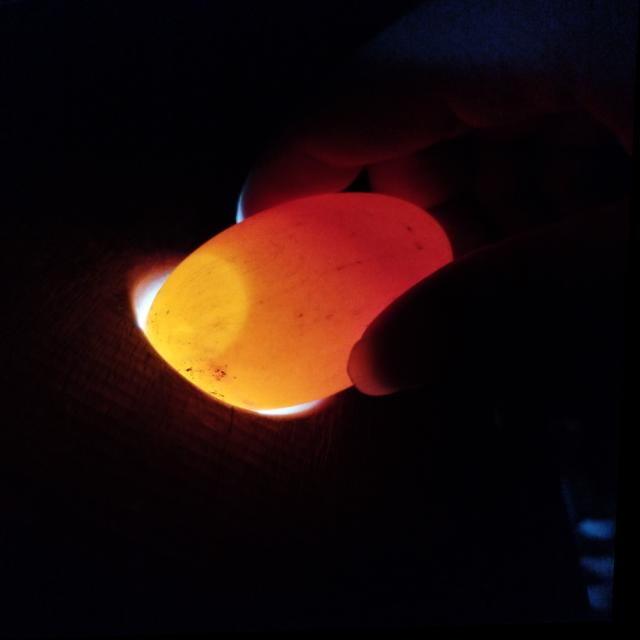Camara de Ar: (149, 258, 252, 375)
Gema Quebrada: (282, 195, 456, 314)
